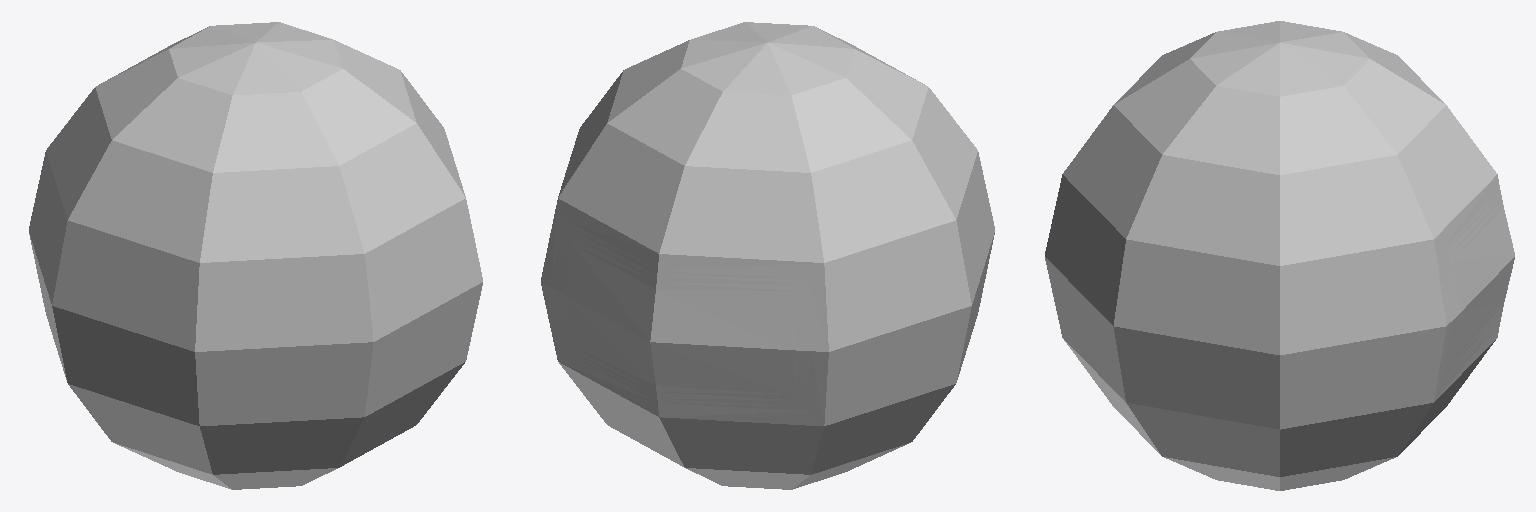
Rendered from anotherOne0.obj.
3 renders of one model, left to right at view 1: azimuth 30°, elevation 25°; view 2: azimuth 150°, elevation 25°; view 3: azimuth 270°, elevation 25°, orthographic.
Parts seen in each view (by area): view 1: Sphere; view 2: Sphere; view 3: Sphere.
Part boxes in pixels (left/top/right/bottom): Sphere: left=29, top=22, right=482, bottom=489; Sphere: left=541, top=22, right=994, bottom=489; Sphere: left=1045, top=21, right=1514, bottom=490.
Size of the model in its own units: 2 by 2 by 2.